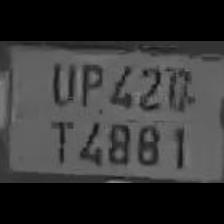1: (164, 118, 190, 170)
2: (133, 59, 163, 113)
4: (102, 57, 134, 109), (74, 113, 104, 167)
8: (103, 116, 131, 166), (133, 118, 161, 168)
P: (74, 57, 104, 109)
T: (45, 112, 75, 164)
U: (45, 57, 77, 106)
